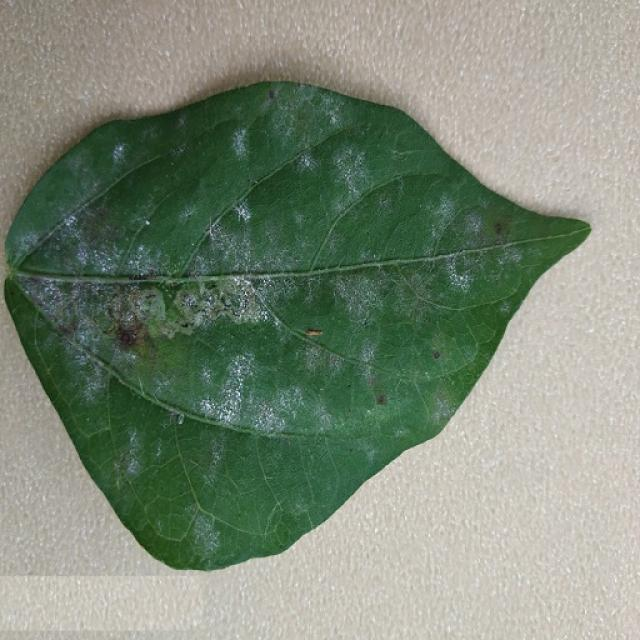Blackgram: (6, 82, 589, 569)
Powdery_Mildew: (25, 258, 504, 403), (189, 135, 341, 266), (32, 275, 268, 346), (117, 417, 247, 536), (20, 308, 113, 437), (253, 89, 350, 155), (389, 264, 489, 316), (19, 276, 89, 337), (330, 271, 390, 333), (320, 143, 376, 203), (77, 208, 129, 258), (119, 214, 162, 272), (190, 214, 227, 271), (48, 209, 92, 256), (456, 209, 495, 252), (441, 254, 479, 292), (482, 205, 515, 246), (11, 228, 42, 265), (493, 239, 526, 273), (230, 127, 251, 159), (117, 326, 140, 346), (235, 203, 252, 222), (113, 142, 130, 161), (168, 410, 185, 426)
